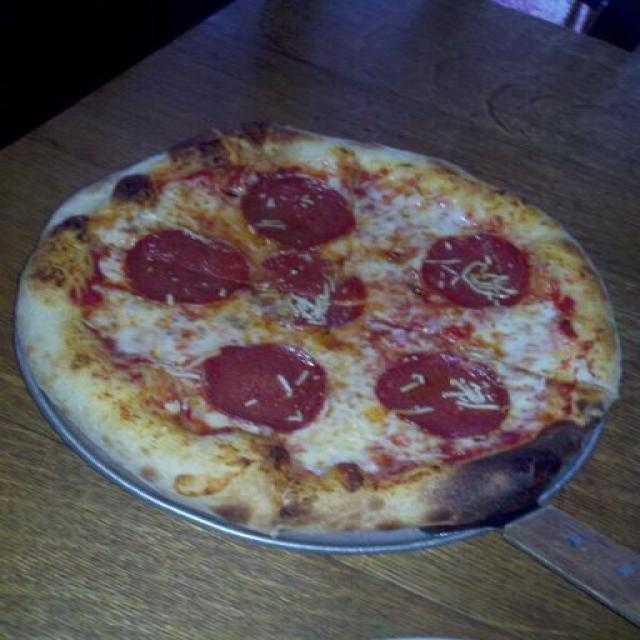Pepperoni: (201, 330, 331, 430), (380, 354, 502, 442), (241, 175, 356, 250), (255, 252, 380, 319), (132, 228, 231, 296), (438, 234, 528, 304)
Pizza: (17, 124, 620, 549)
